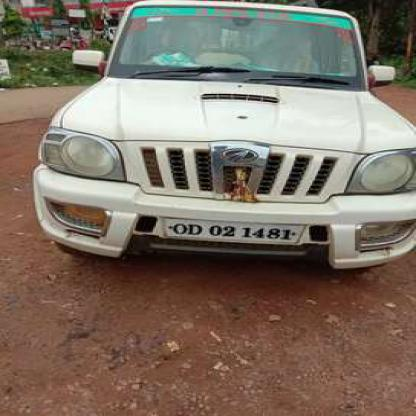license_plate: (160, 217, 302, 245)
